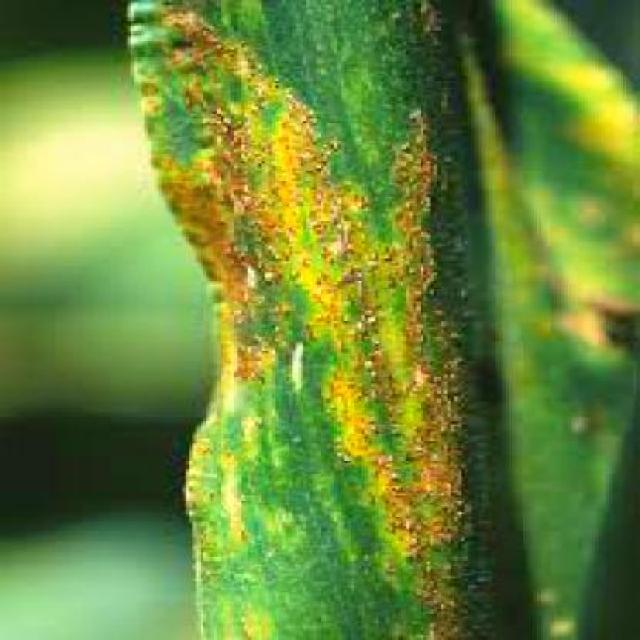Corn_Rust: (135, 0, 560, 640)
